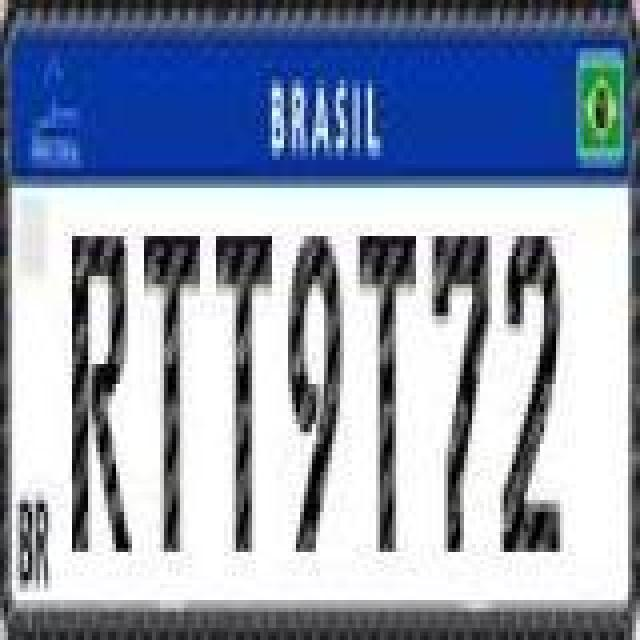2: (500, 224, 564, 560)
7: (432, 230, 496, 554)
9: (284, 224, 348, 560)
R: (72, 224, 136, 560)
T: (142, 224, 202, 560), (214, 230, 274, 554), (358, 226, 418, 550)
